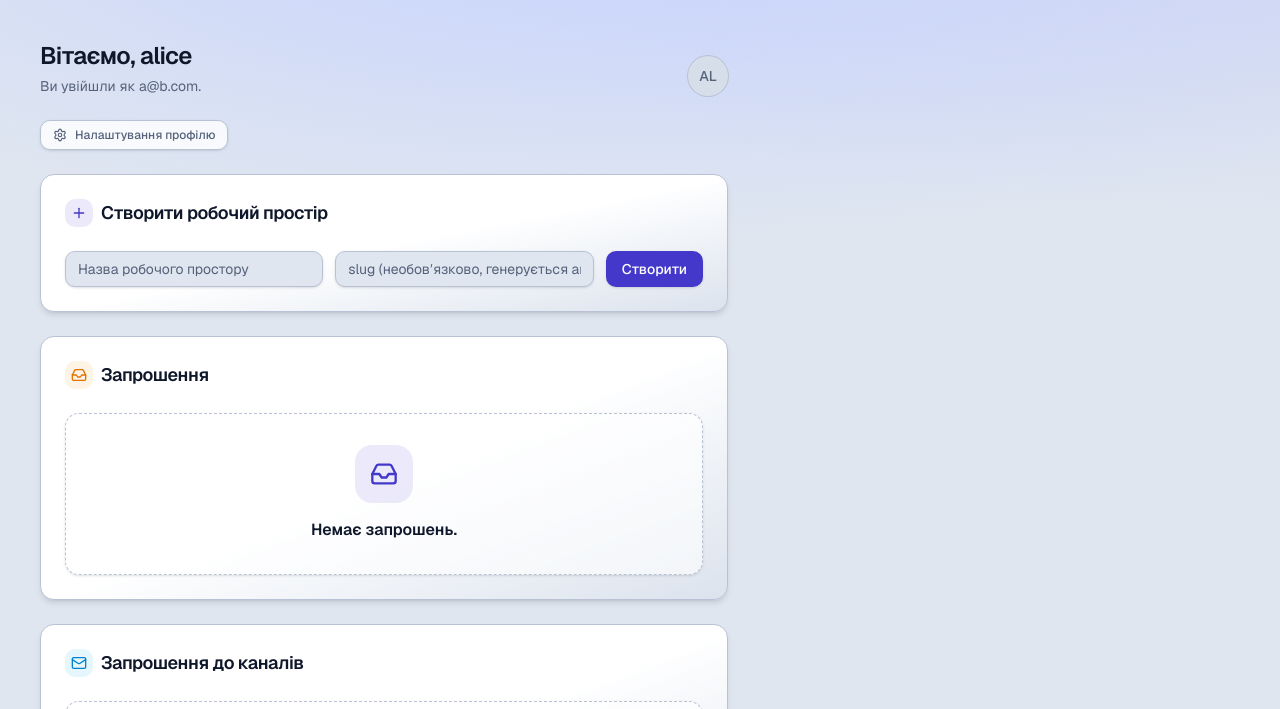
DashboardPage — interface language › shows Ukrainian validation error for empty workspace name
This screenshot has width=1280, height=709.
What coordinates should you click on to do the following:
click the button "Створити"
I would click on:
 (654, 269)
Its box is [606,251,703,287].
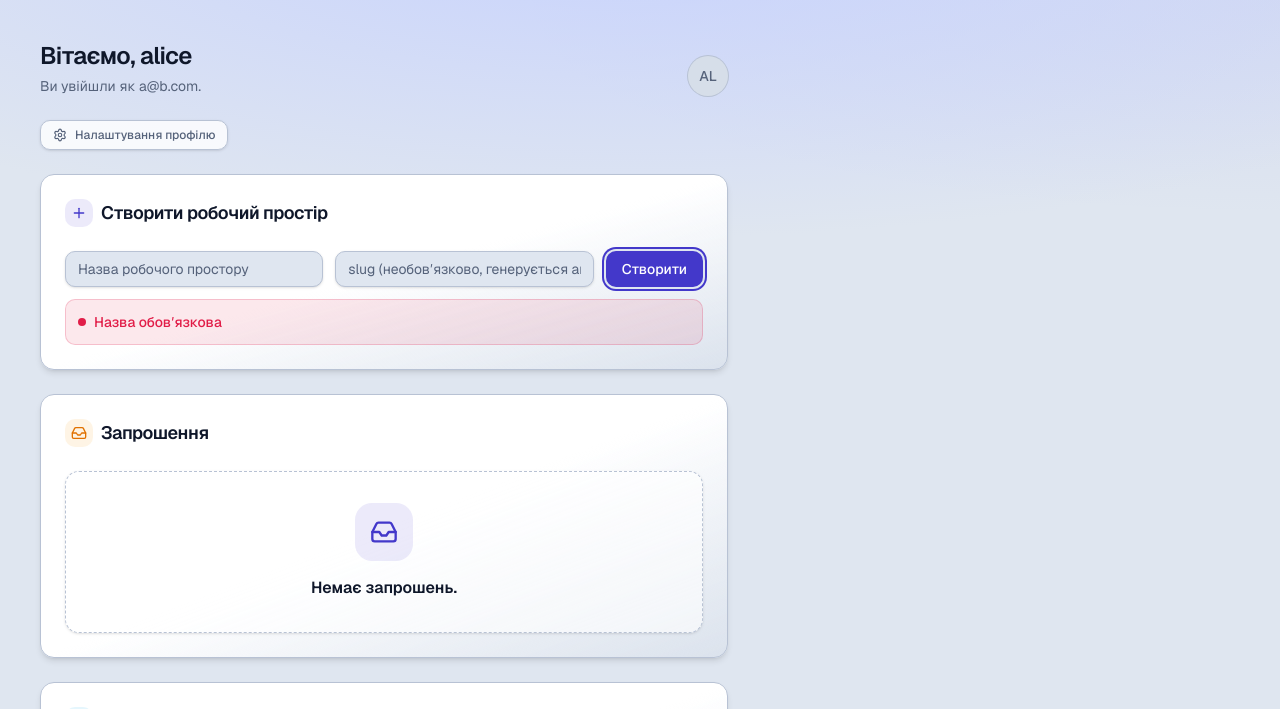
Expected: the text "Назва обовʼязкова" is shown, [78,313,222,331]
